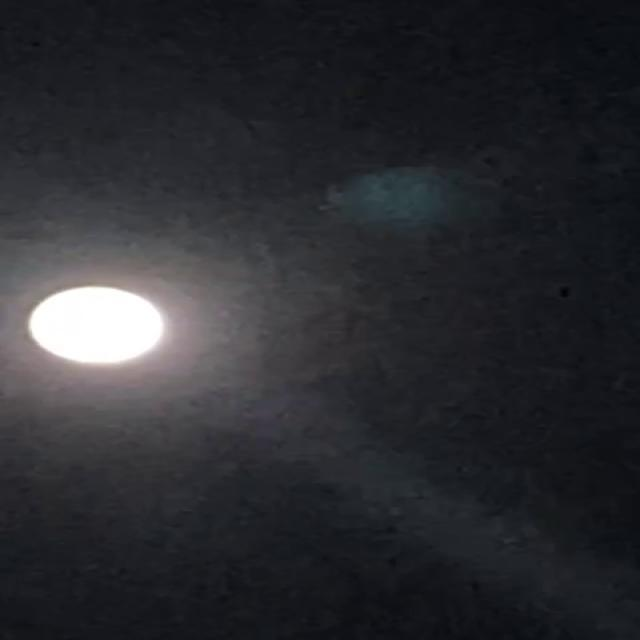moon: (24, 288, 208, 383)
